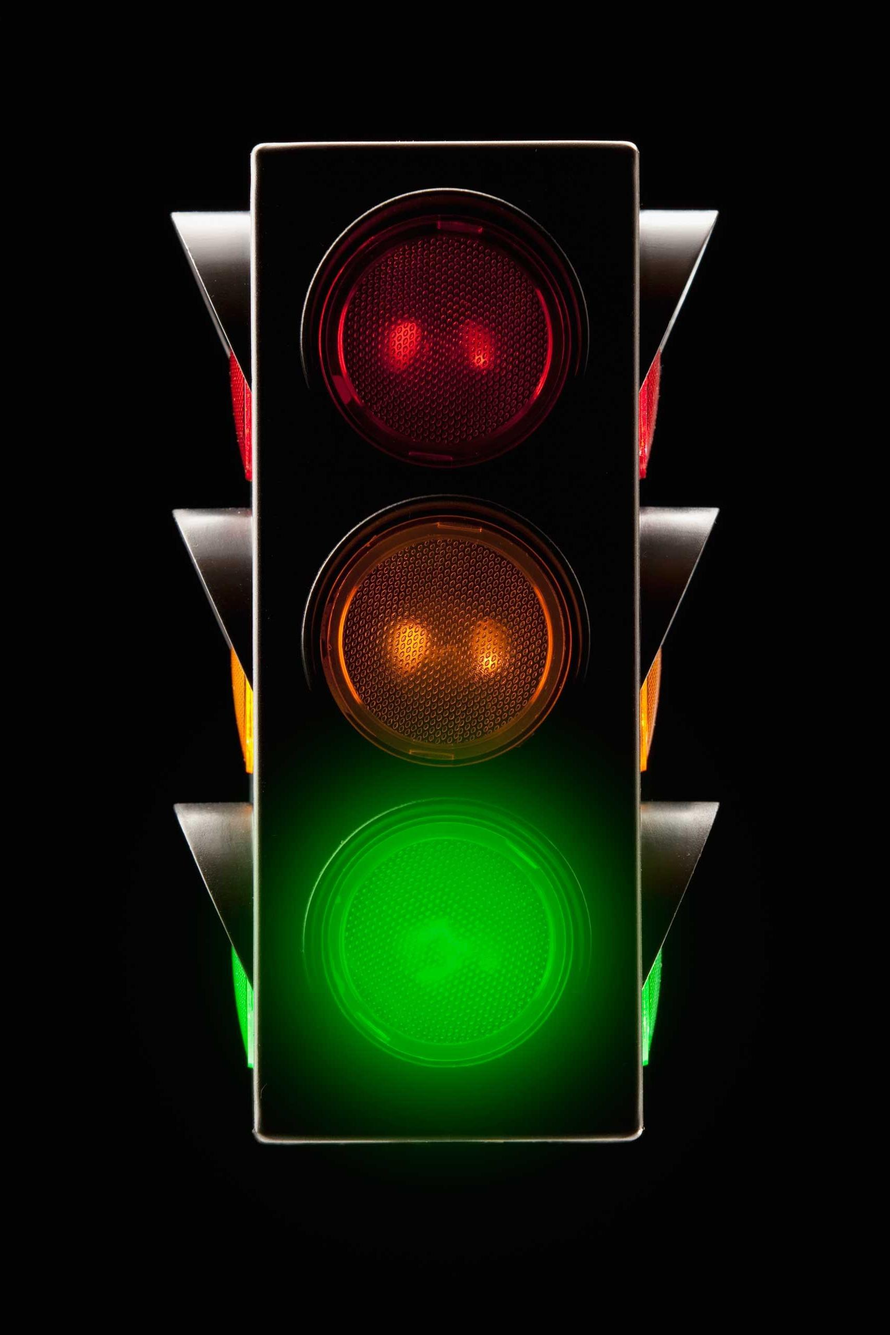green: (235, 133, 662, 1147)
